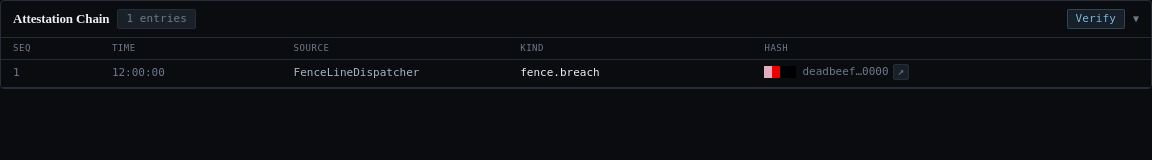
Scenario: AttestationPanel — Verify Chain button (DASH-04) › shows per-row Verified ✓ badge after verify succeeds (ATT-06)
This screenshot has width=1152, height=160.
Click the button "Verify": (1096, 19) [1067, 9, 1125, 29]
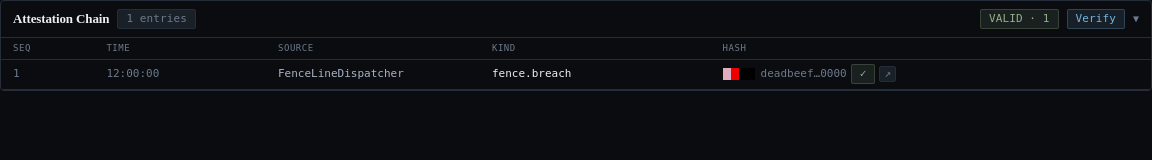
expect the text "✓" is shown: met, box [851, 64, 875, 84]
